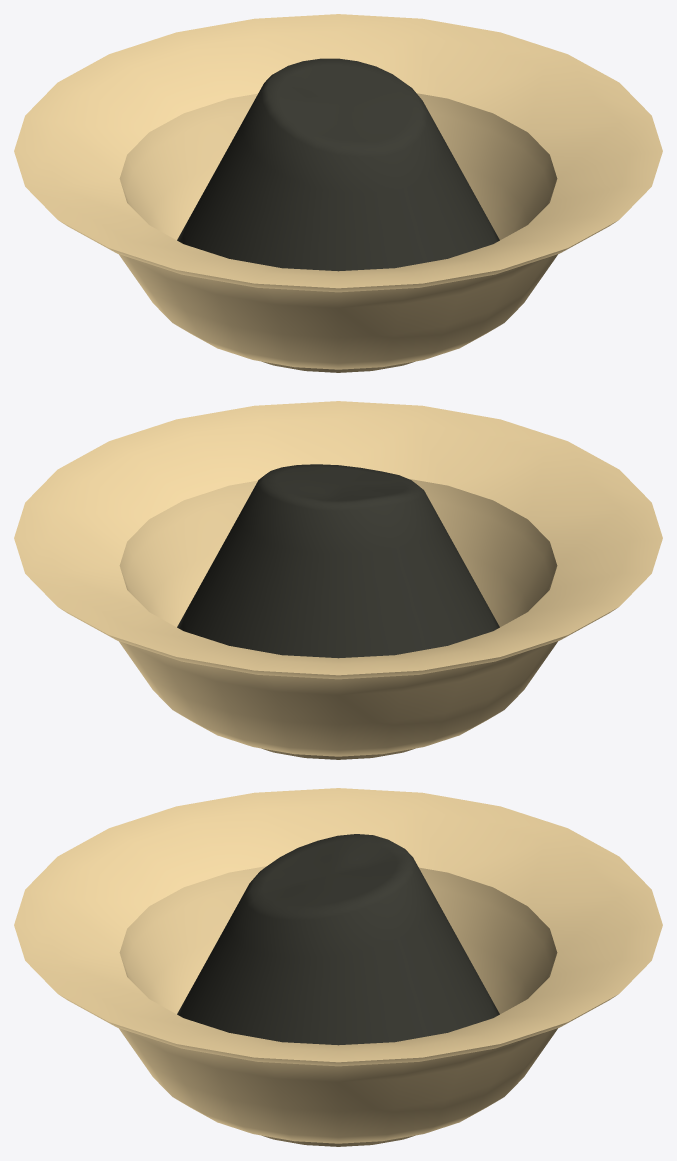
The model's file is SE_118_black_powder_mountain.glb.
3 renders of one model, top to bottom at view 1: azimuth 30°, elevation 25°; view 2: azimuth 150°, elevation 25°; view 3: azimuth 270°, elevation 25°, orthographic.
Parts seen in each view (by area): view 1: plate_small, black_powder; view 2: plate_small, black_powder; view 3: plate_small, black_powder.
Part boxes in pixels (<box>): plate_small: <box>14,14,662,372</box>; black_powder: <box>177,58,499,271</box>; plate_small: <box>14,401,662,759</box>; black_powder: <box>177,464,499,658</box>; plate_small: <box>14,788,662,1146</box>; black_powder: <box>177,834,499,1045</box>.
Size of the model in its own units: 0.6283 by 0.247 by 0.6283.
